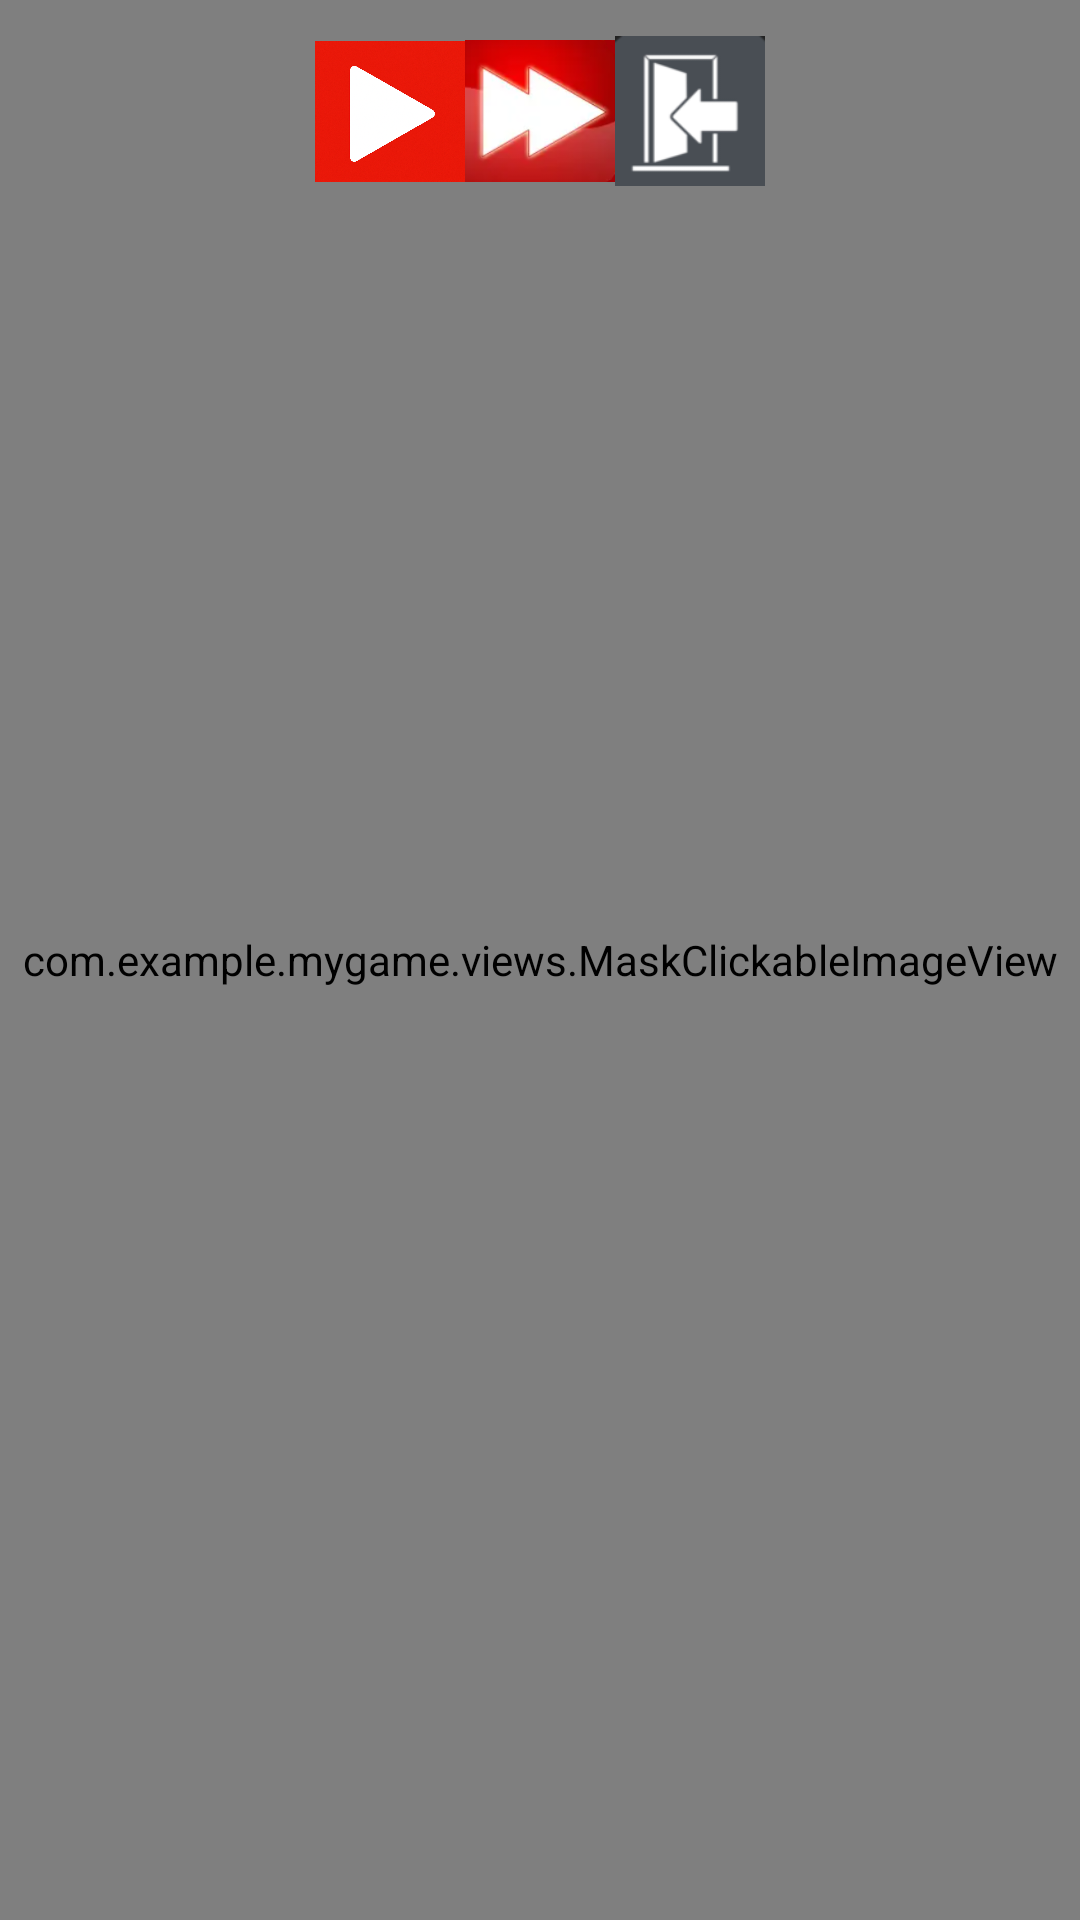

Point at icon controls on the screen. Image size 1080*1920, points as point (x, y).
End turn: point (390, 111)
Return to main menu: point (690, 111)
Skip several turns: point (540, 111)
